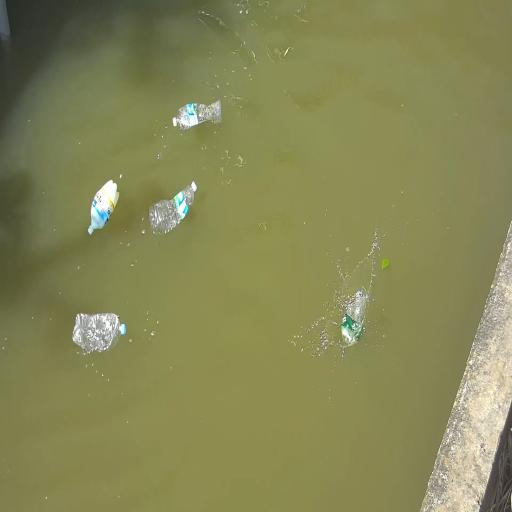plastic: (149, 182, 197, 234), (73, 313, 126, 353), (88, 180, 119, 234), (342, 290, 368, 346), (173, 101, 221, 128)
